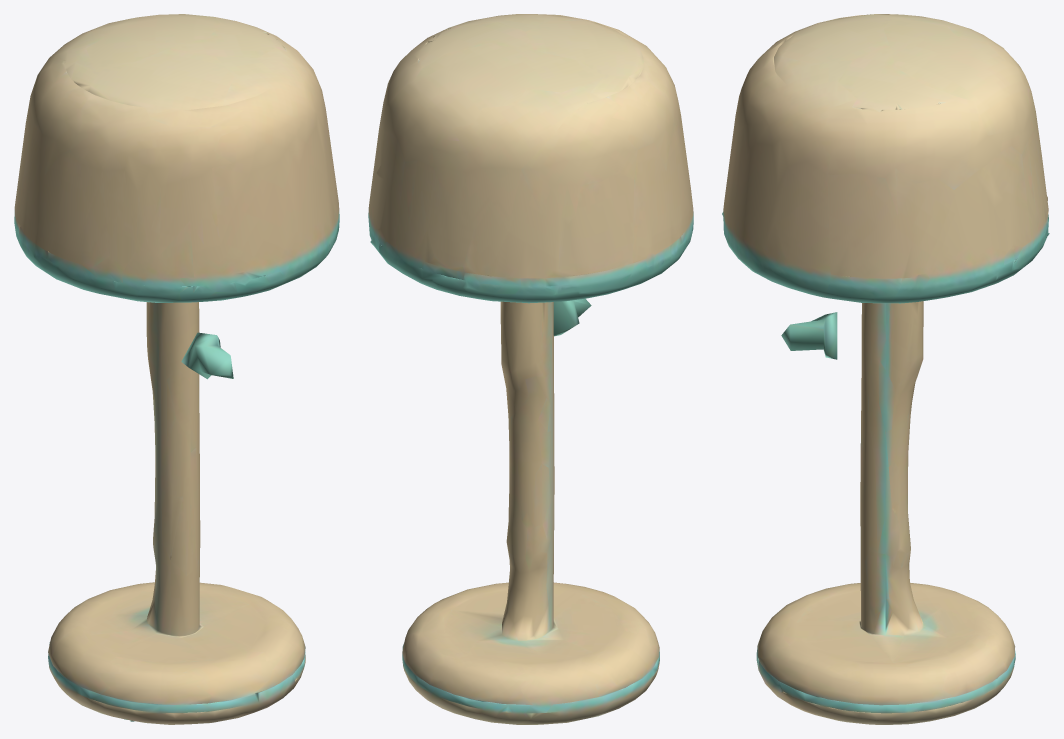
File: living_floor_lamp.glb
3 renders of one model, left to right at view 1: azimuth 30°, elevation 25°; view 2: azimuth 150°, elevation 25°; view 3: azimuth 270°, elevation 25°, orthographic.
Parts seen in each view (by area): view 1: tripo_node_7463a29d-2404-4e3e-906f-4c037e809c30; view 2: tripo_node_7463a29d-2404-4e3e-906f-4c037e809c30; view 3: tripo_node_7463a29d-2404-4e3e-906f-4c037e809c30.
Boxes of the visible parts, <box> form: tripo_node_7463a29d-2404-4e3e-906f-4c037e809c30: <box>14,14,339,724</box>; tripo_node_7463a29d-2404-4e3e-906f-4c037e809c30: <box>368,14,693,724</box>; tripo_node_7463a29d-2404-4e3e-906f-4c037e809c30: <box>722,14,1049,724</box>.
Bounding box in the file's own units: 0.7014 × 1.5 × 0.7028.
1 material, 1 textured.
